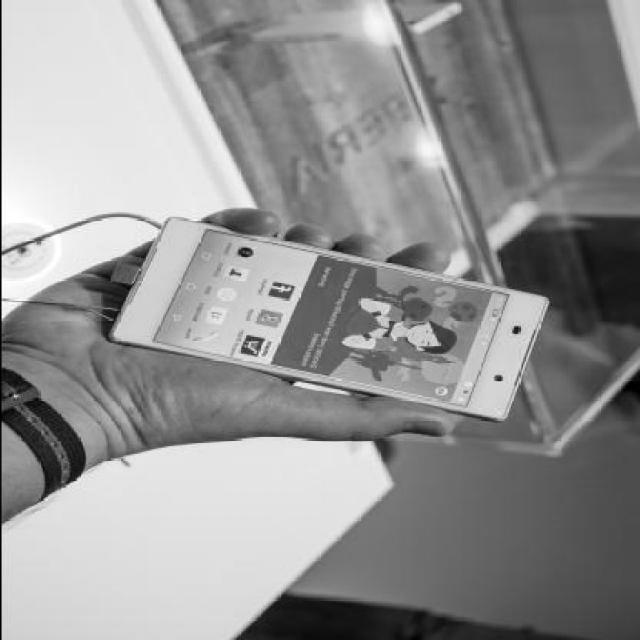fake: (97, 206, 546, 422)
